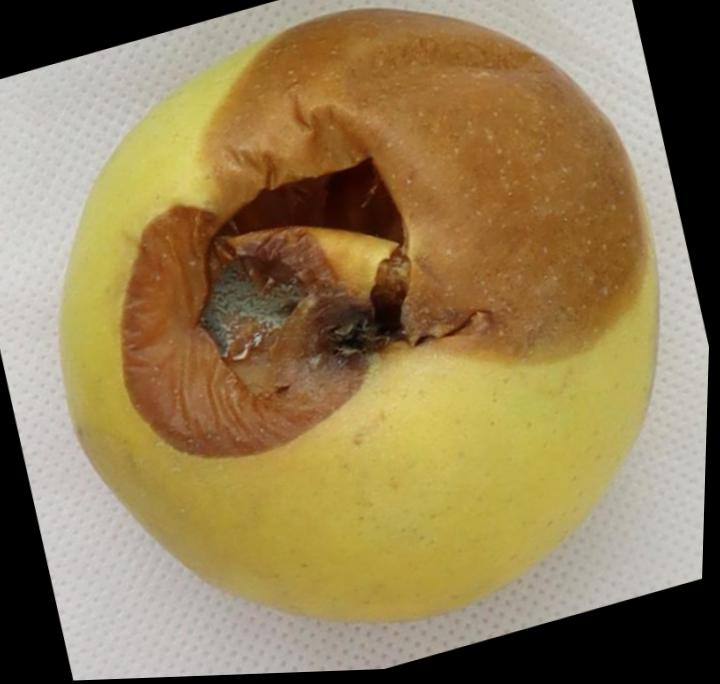apple: (62, 10, 657, 622)
rot_mold_decay: (122, 11, 647, 456)
